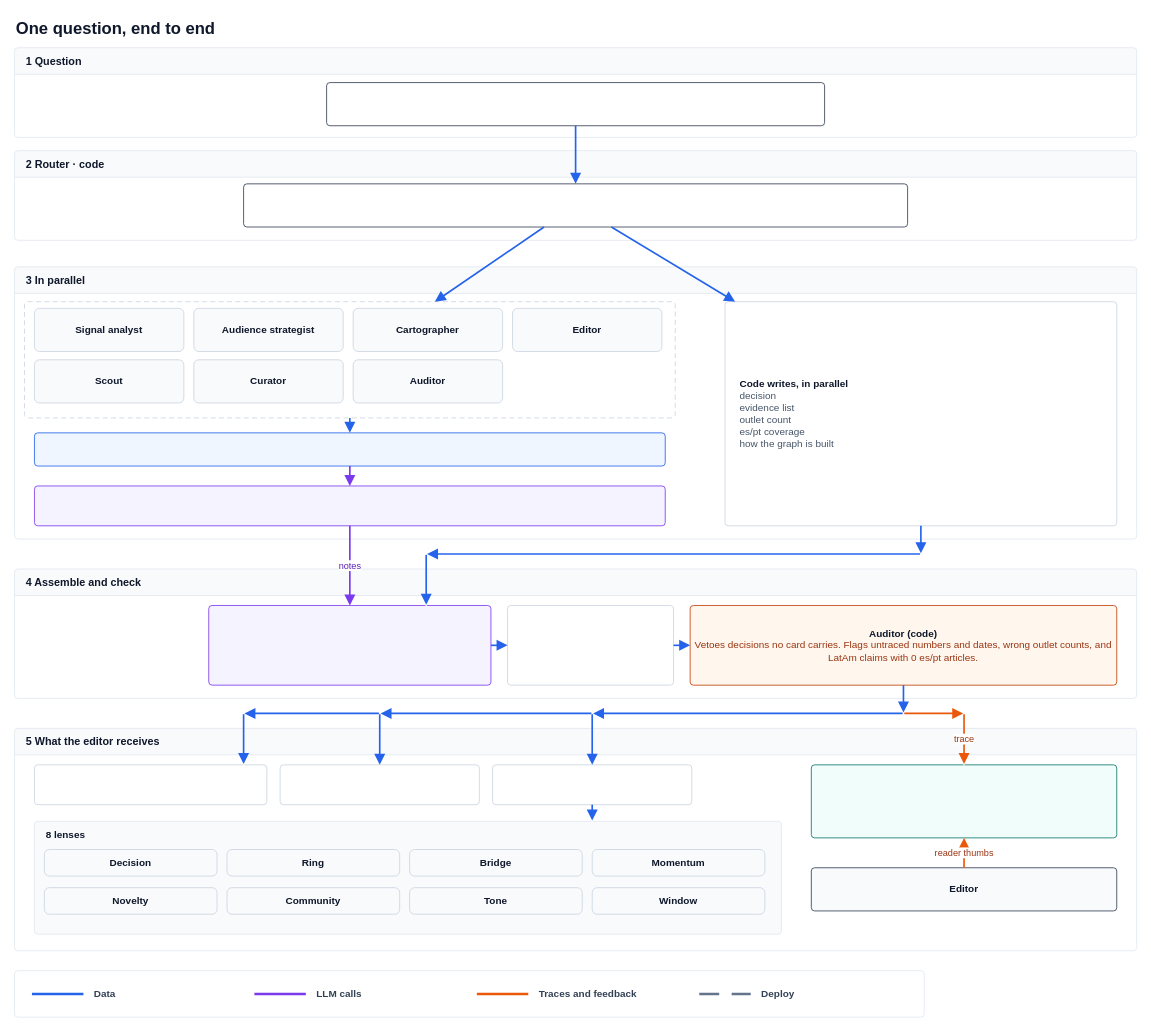
The diagram is 1151 pixels wide and 1032 high, and some of its shapes have lost their labels. The centre of each missing label's shape, as x and y in pixels:
"Answer" goes at (x=150, y=784).
"Decision cards" goes at (x=379, y=784).
"Fixed data plan → tools: DuckDB on the lake" goes at (x=349, y=449).
"LangSmith Trace" goes at (x=963, y=801).
"Media Master Integrates the notes" goes at (x=349, y=645).
"One note each, in parallel Qwen3-30B on Nebius" goes at (x=349, y=505).
"Question From the editor at 30X" goes at (x=575, y=104).
"Router Keywords, entity resolution, out-of-scope refusal" goes at (x=575, y=205).
"strip_echo" goes at (x=590, y=645).
"View commands" goes at (x=592, y=784).
